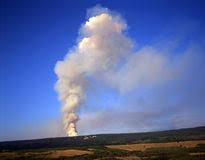yanwu: (52, 3, 194, 137)
